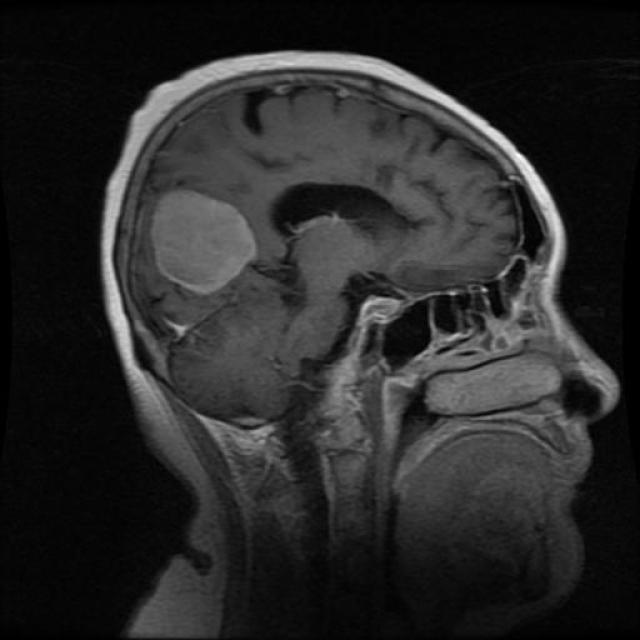meningioma: (125, 173, 259, 297)
